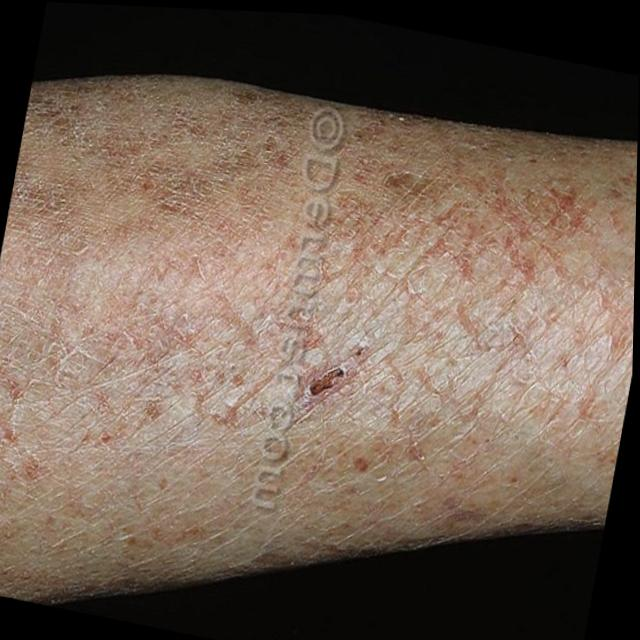Eczema: (0, 68, 527, 555)
